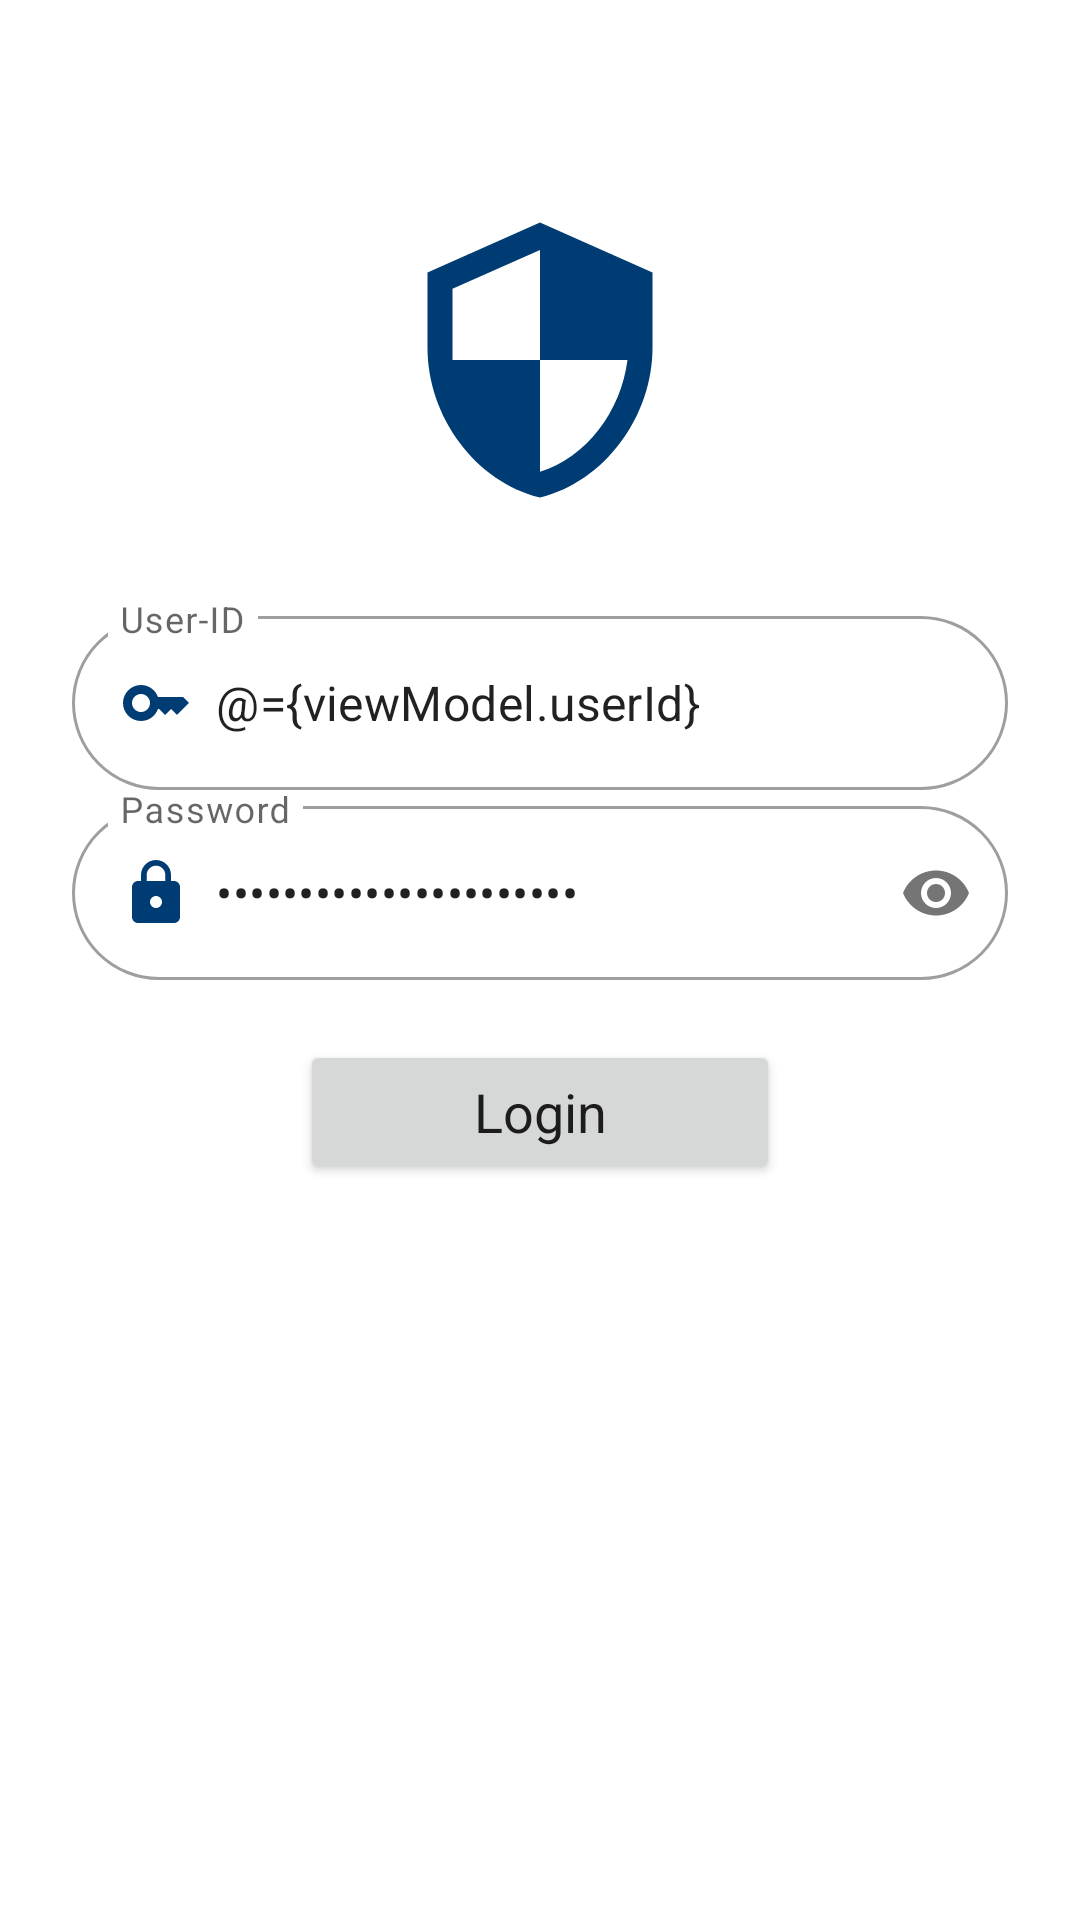

Named icons in this screenshot (1080×1920) and their centers, [x,y]:
security: [540,360]
